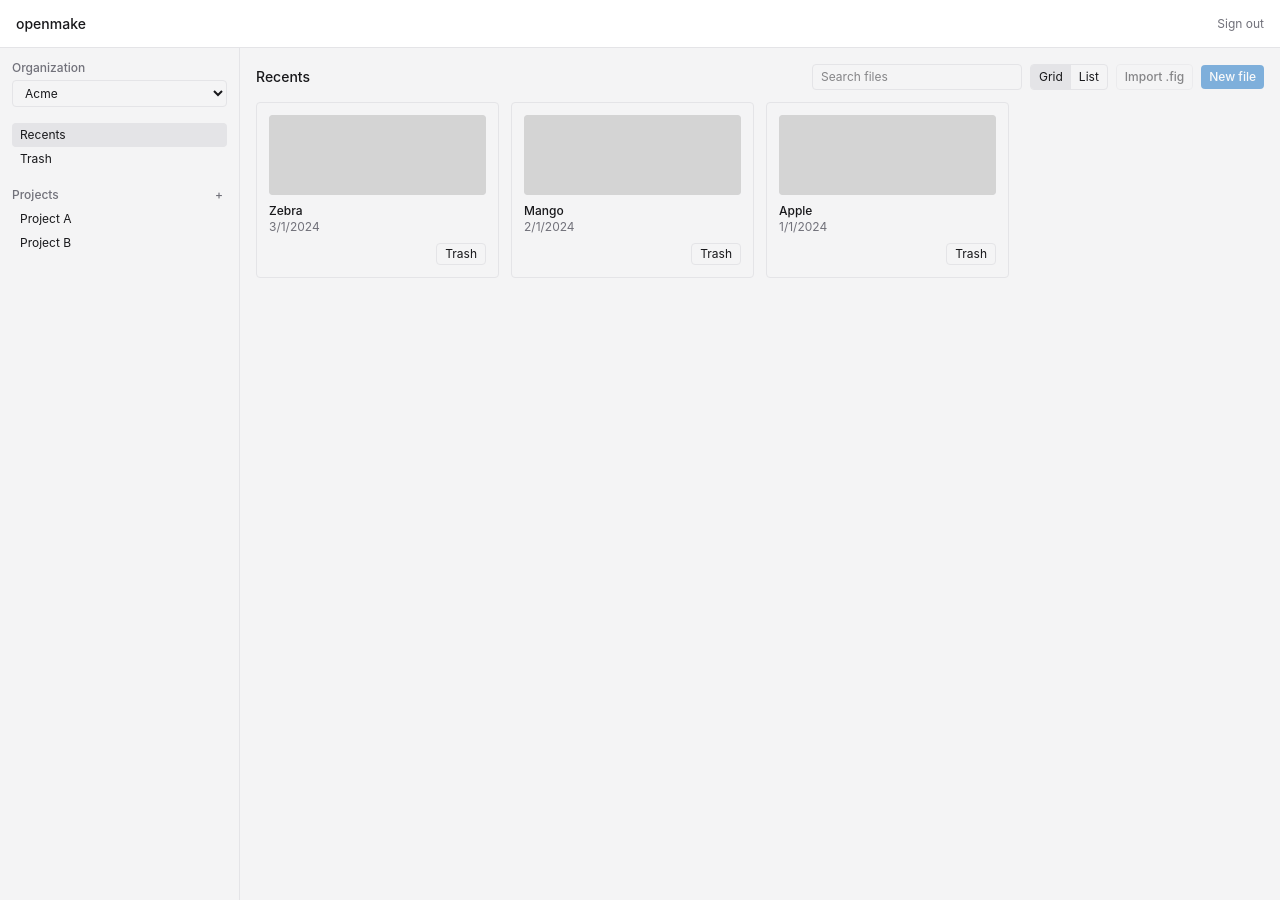
DashboardPage › lists trashed files across projects and restores one
The width and height of the screenshot is (1280, 900).
Click the button with test id "nav-trash".
click(120, 159)  # box [12, 147, 227, 171]
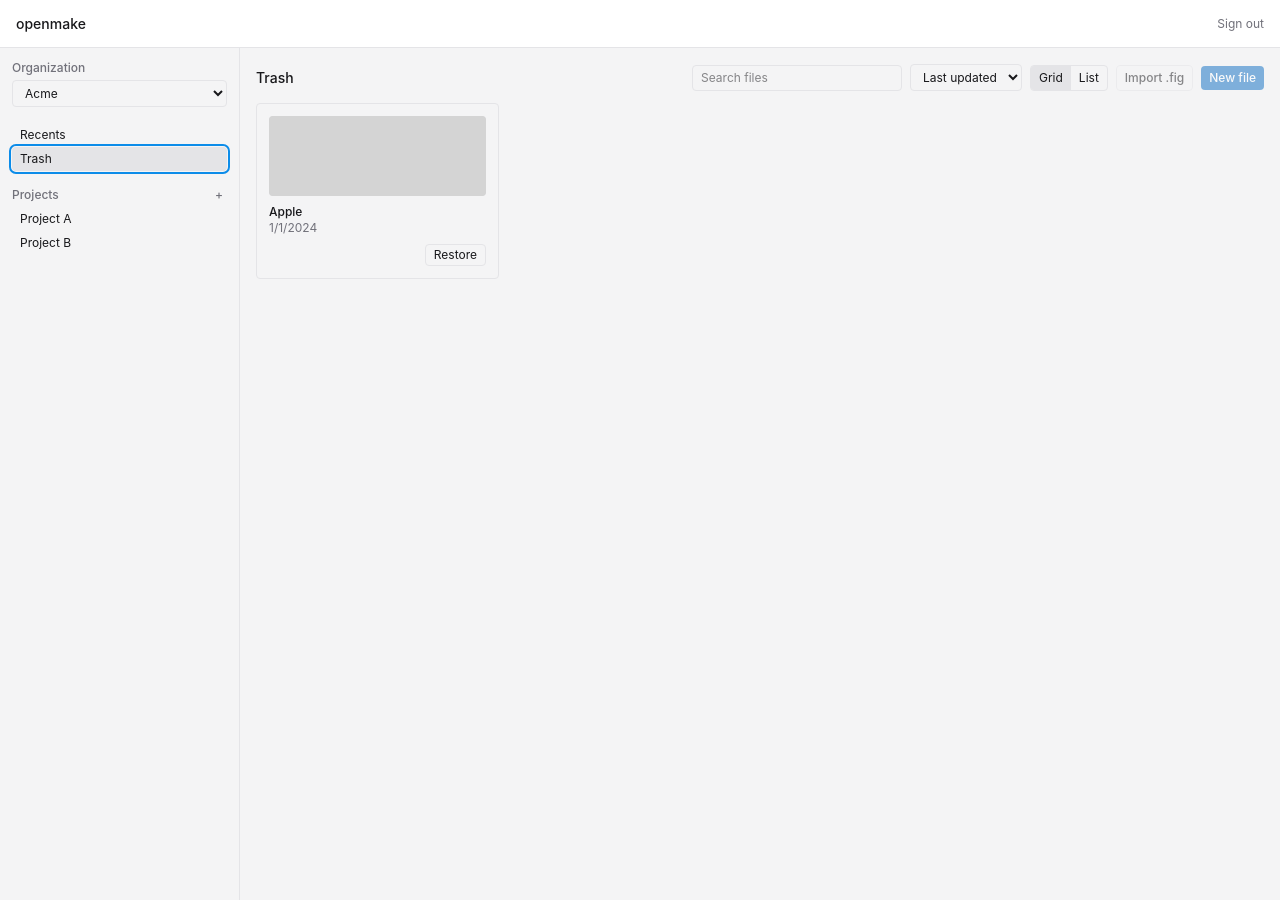
Expected: the element with test id "file-a2" is shown, [256, 103, 499, 279]
Click the button with test id "restore-file-a2".
click(455, 255)  # box [425, 244, 486, 266]
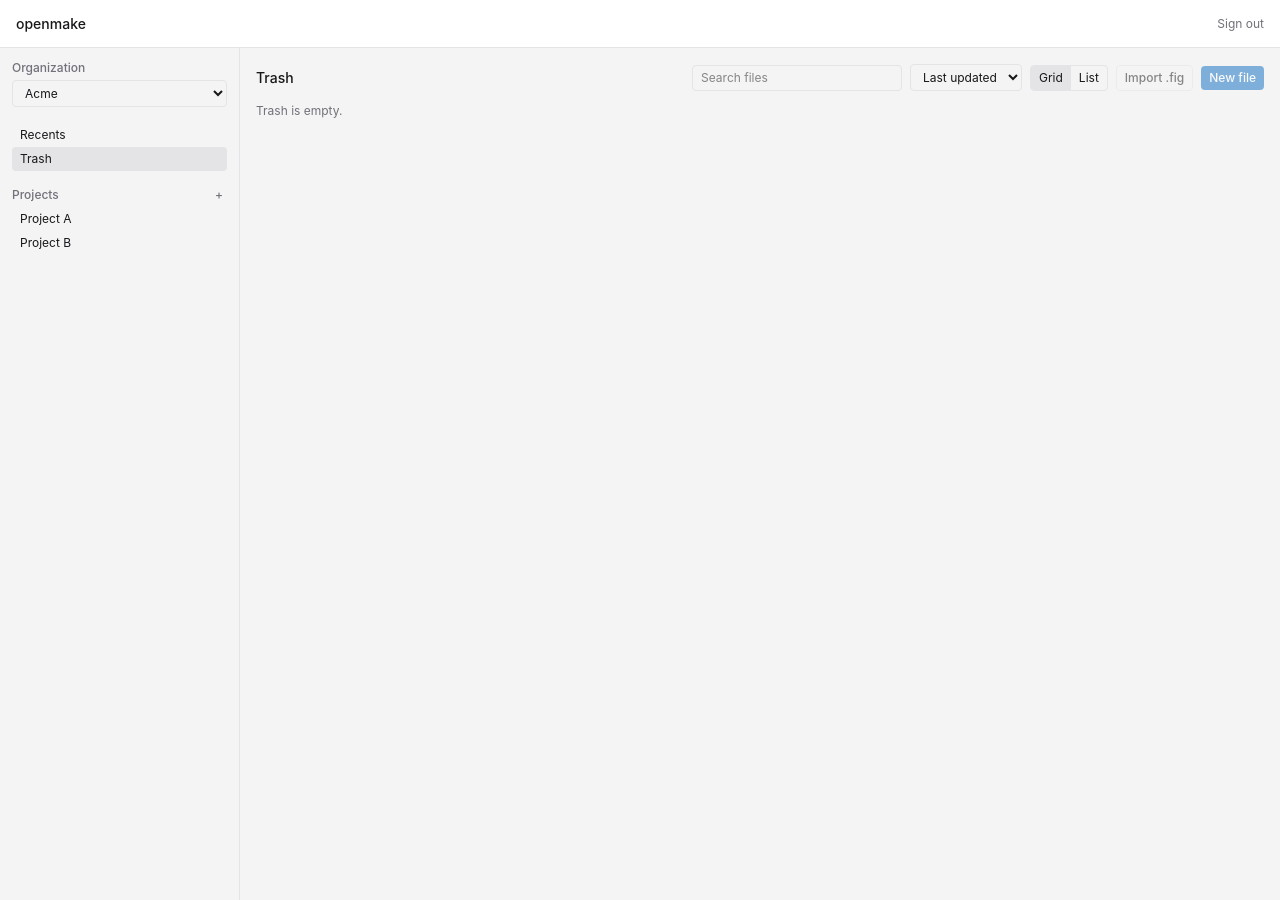
Result: the element with test id "file-a2" is gone
